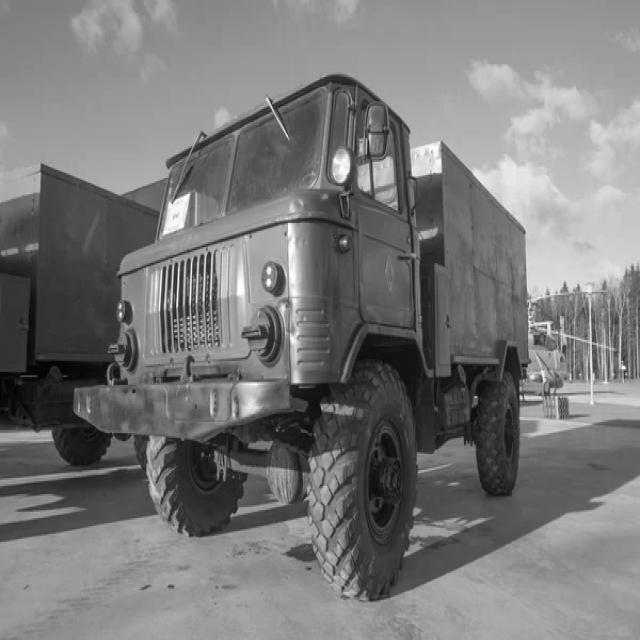Truck: (74, 75, 531, 601)
